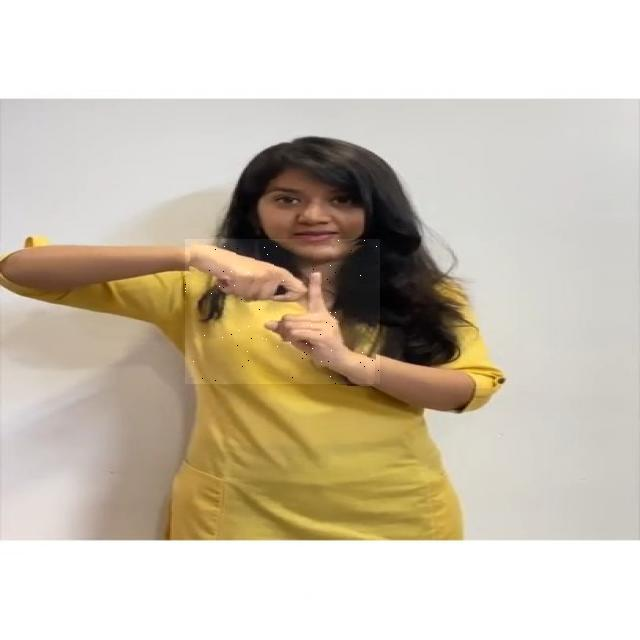K: (185, 239, 380, 384)
